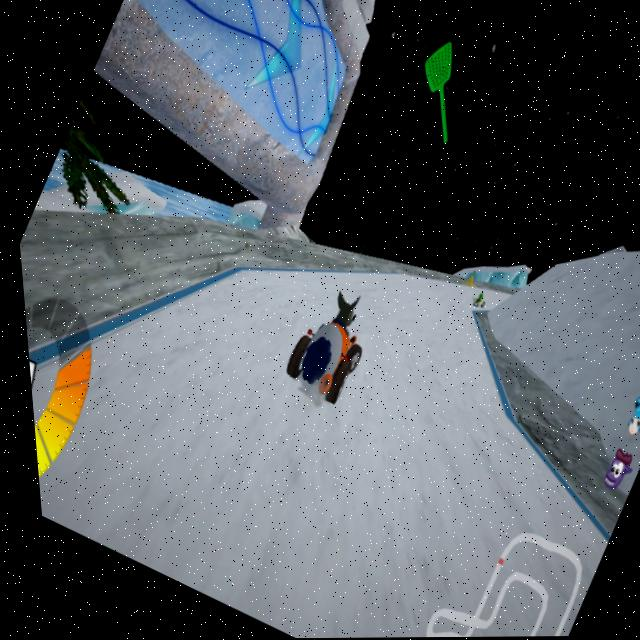enemy_kart: (460, 288, 489, 318)
obstacle: (453, 271, 480, 297)
off_track: (470, 257, 640, 412)
player_kart: (266, 279, 389, 415)
track: (355, 263, 475, 349)
